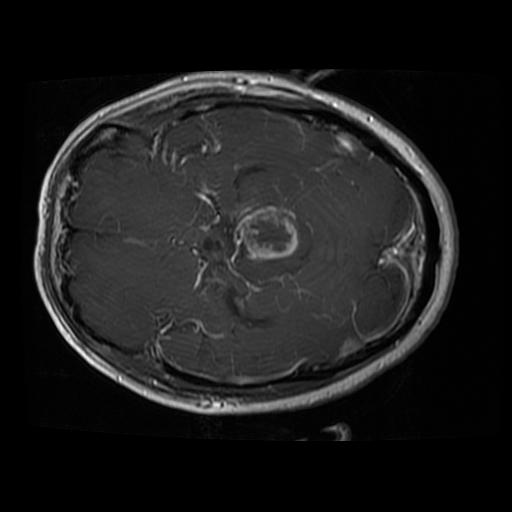glioma: (234, 202, 304, 264)
